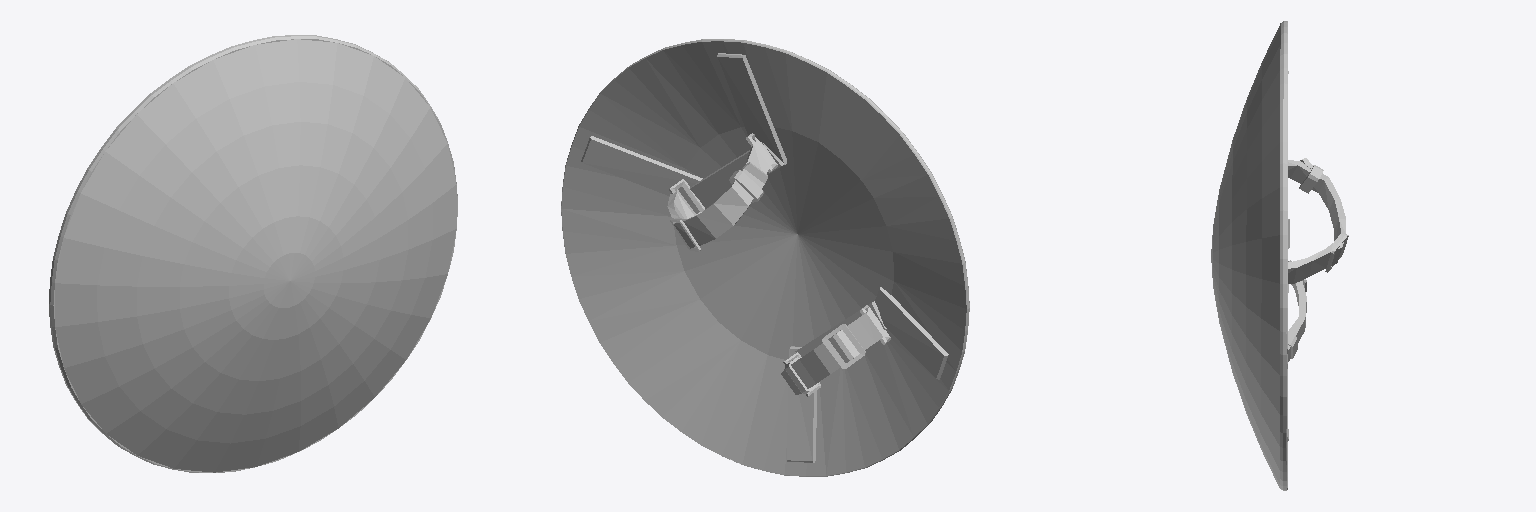
Rendered from shield.obj.
3 renders of one model, left to right at view 1: azimuth 30°, elevation 25°; view 2: azimuth 150°, elevation 25°; view 3: azimuth 270°, elevation 25°, orthographic.
Visible parts, largest first — view 1: shield; view 2: shieldin, handle, shield; view 3: shield, handle.
Part boxes in pixels (x1,y1,x2,y2): shield: (49,35,457,472); shieldin: (561,41,966,475); handle: (581,53,948,462); shield: (561,39,969,476); shield: (1211,21,1287,490); handle: (1287,71,1348,441).
Bounding box in the file's own units: 56.44 × 56.32 × 16.54.